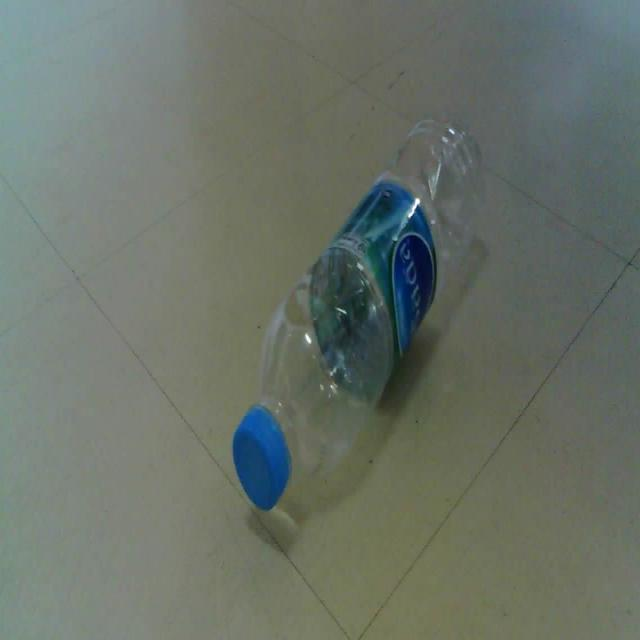empty: (232, 119, 483, 509)
